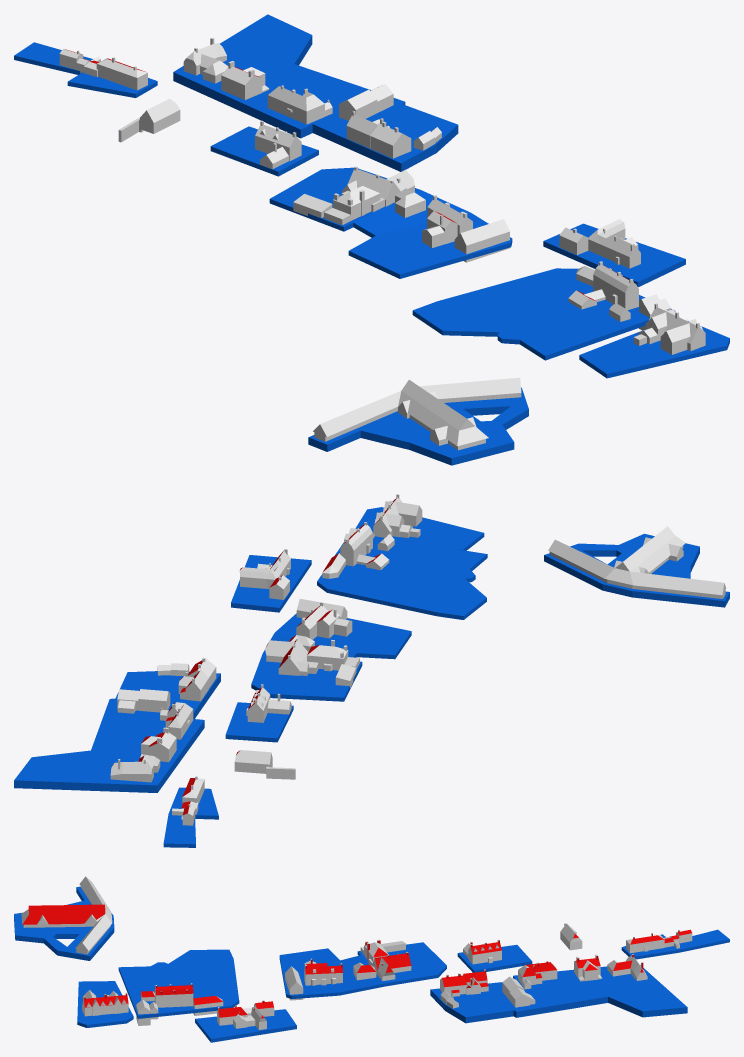
The model's file is Buildings.fbx.
3 views of the same model, one above another, from view 1: azimuth 30°, elevation 25°; view 2: azimuth 150°, elevation 25°; view 3: azimuth 270°, elevation 25° (orthographic). The views are drawn at different scales.
Parts seen in each view (by area): view 1: The Red Lion.003, The Red Lion; view 2: The Red Lion.003, The Red Lion, The Red Lion.002; view 3: The Red Lion.003, The Red Lion, The Red Lion.002.
Part boxes in pixels (x1,y1,x2,y2): The Red Lion.003: [14, 14, 729, 465]; The Red Lion: [59, 38, 705, 450]; The Red Lion.003: [14, 507, 729, 847]; The Red Lion: [110, 494, 726, 825]; The Red Lion.002: [112, 498, 396, 814]; The Red Lion.003: [14, 886, 729, 1042]; The Red Lion: [21, 876, 692, 1029]; The Red Lion.002: [22, 904, 691, 1018].
Bounding box in the file's own units: 187 × 20.07 × 362.
